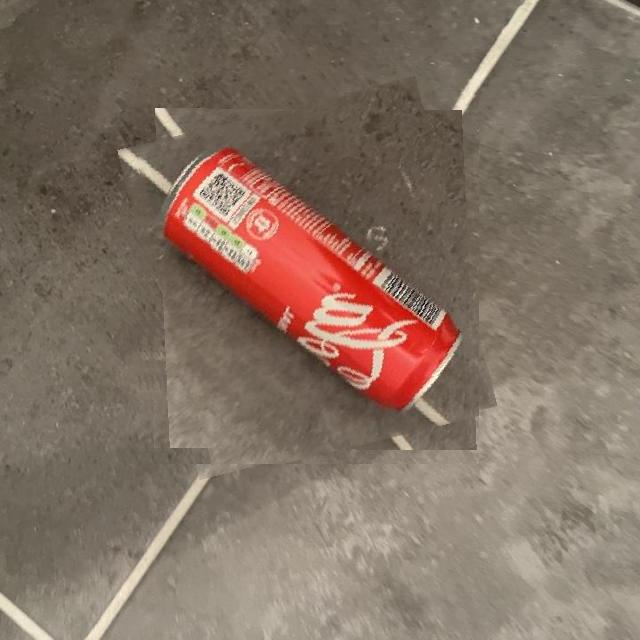recyclable: (136, 92, 479, 464)
